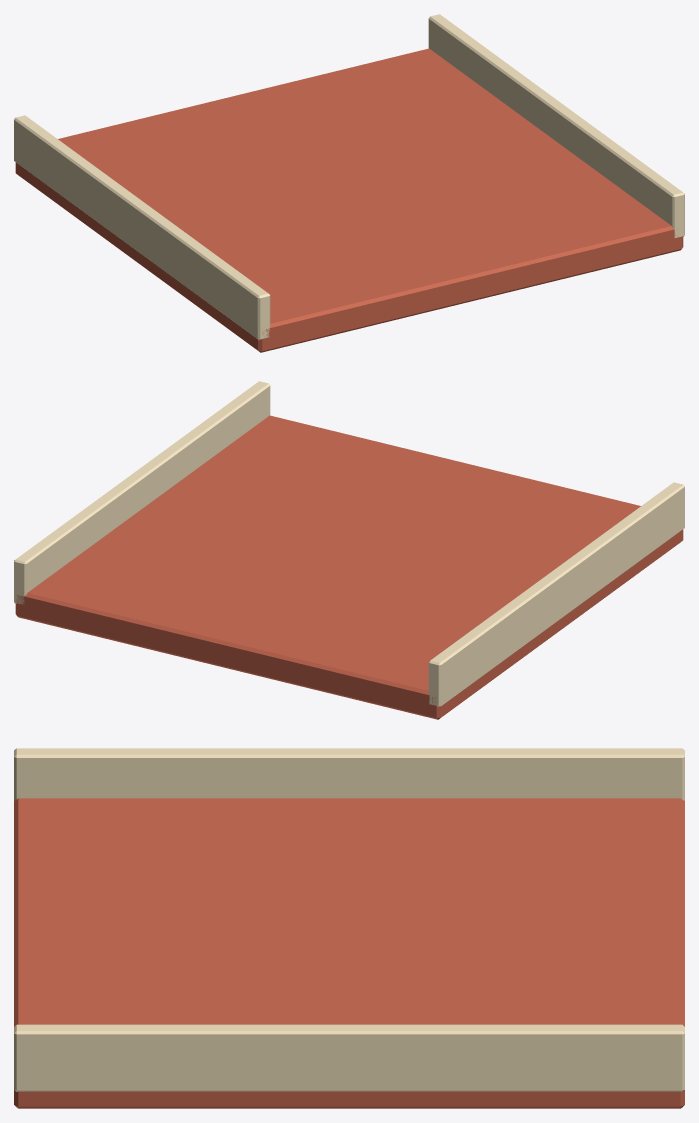
Rendered from Roof_4m.fbx.
The picture shows the model from 3 angles, top to bottom: view 1: azimuth 30°, elevation 25°; view 2: azimuth 150°, elevation 25°; view 3: azimuth 270°, elevation 25°; orthographic projection. The views are drawn at different scales.
Visible parts, largest first — view 1: Roof.005, Parapet, Parapet.001; view 2: Roof.005, Parapet, Parapet.001; view 3: Roof.005, Parapet.001, Parapet.
Part boxes in pixels (x1,y1,x2,y2): Roof.005: [15, 48, 683, 352]; Parapet: [14, 115, 270, 340]; Parapet.001: [428, 14, 684, 237]; Roof.005: [15, 415, 683, 719]; Parapet: [428, 482, 684, 707]; Parapet.001: [14, 381, 270, 604]; Roof.005: [14, 798, 684, 1108]; Parapet.001: [14, 1024, 684, 1091]; Parapet: [14, 748, 684, 800].
Size of the model in its own units: 4.02 by 0.52 by 4.
